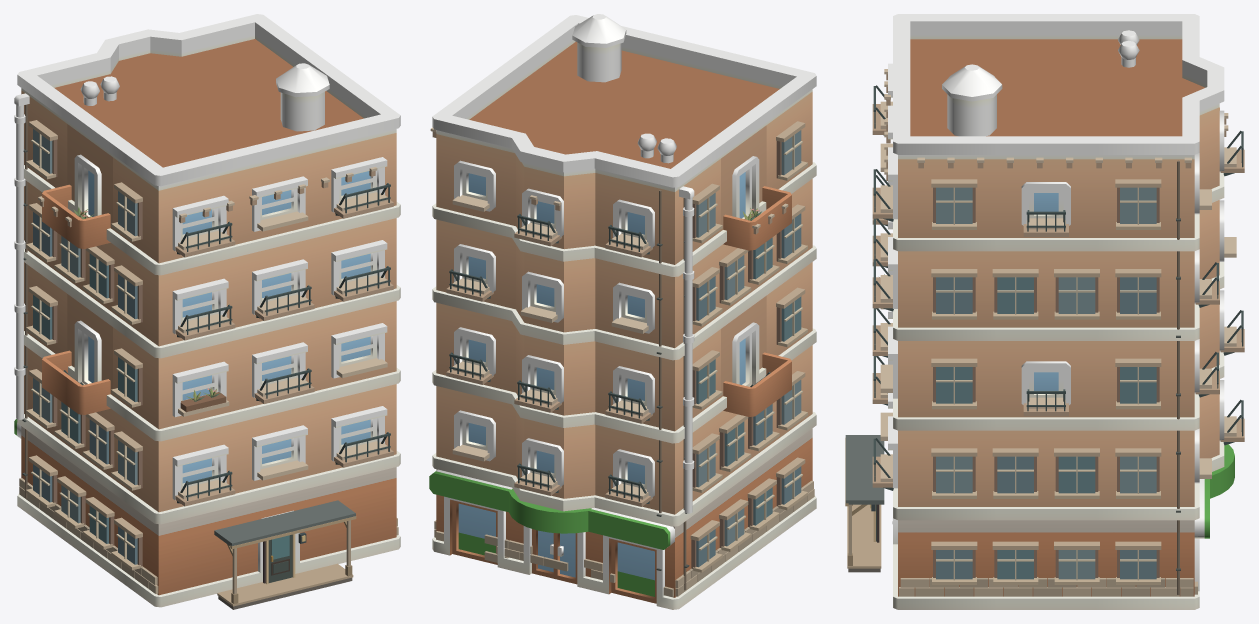
File: shop-l-peach.glb
3 renders of one model, left to right at view 1: azimuth 30°, elevation 25°; view 2: azimuth 150°, elevation 25°; view 3: azimuth 270°, elevation 25°, orthographic. The views are drawn at different scales.
Visible parts, largest first — view 1: building-l, Masonry_and_stairwell_windows, Upper_floor_balconies_and_carved_cornice, Residential_Portico; view 2: building-l, Masonry_and_stairwell_windows, Upper_floor_balconies_and_carved_cornice; view 3: building-l, Masonry_and_stairwell_windows, Upper_floor_balconies_and_carved_cornice, Residential_Portico.
Boxes of the visible parts, x1=… form: building-l: x1=14, y1=14, x2=400, y2=607; Masonry_and_stairwell_windows: x1=19, y1=104, x2=398, y2=593; Upper_floor_balconies_and_carved_cornice: x1=38, y1=167, x2=393, y2=506; Residential_Portico: x1=214, y1=500, x2=356, y2=609; building-l: x1=429, y1=14, x2=816, y2=609; Masonry_and_stairwell_windows: x1=434, y1=121, x2=814, y2=597; Upper_floor_balconies_and_carved_cornice: x1=430, y1=127, x2=788, y2=506; building-l: x1=888, y1=14, x2=1234, y2=609; Masonry_and_stairwell_windows: x1=899, y1=160, x2=1197, y2=596; Upper_floor_balconies_and_carved_cornice: x1=872, y1=69, x2=1244, y2=490; Residential_Portico: x1=845, y1=435, x2=884, y2=572.
Size of the model in its own units: 1.47 by 2.27 by 1.62.
38 materials, 1 textured.
